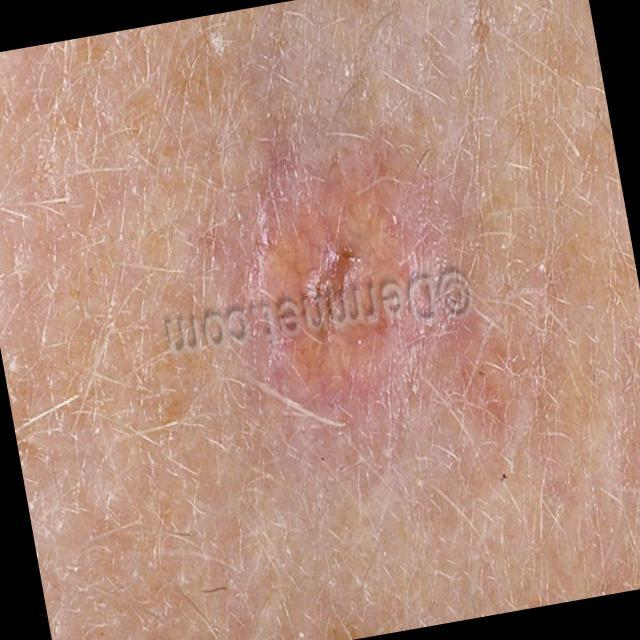Eczema: (14, 33, 562, 535)
